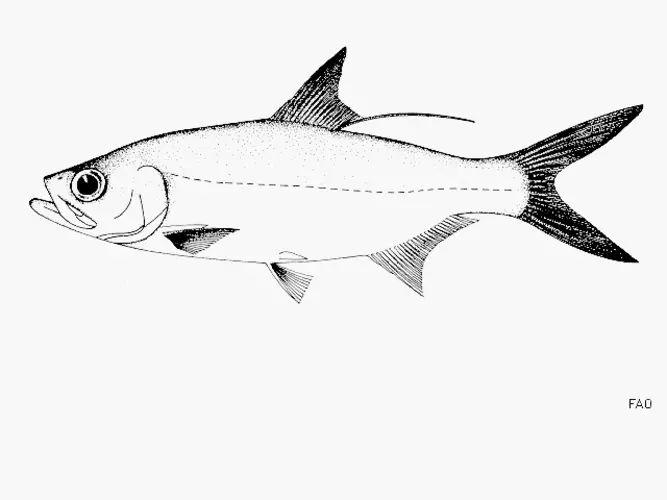Indo-Pacific Tarpon: (23, 39, 643, 313)
